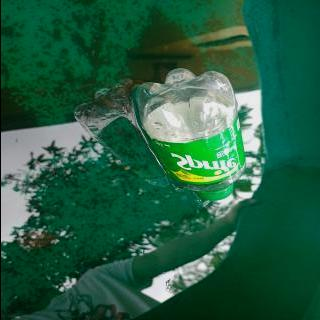bottle: (130, 66, 249, 205)
